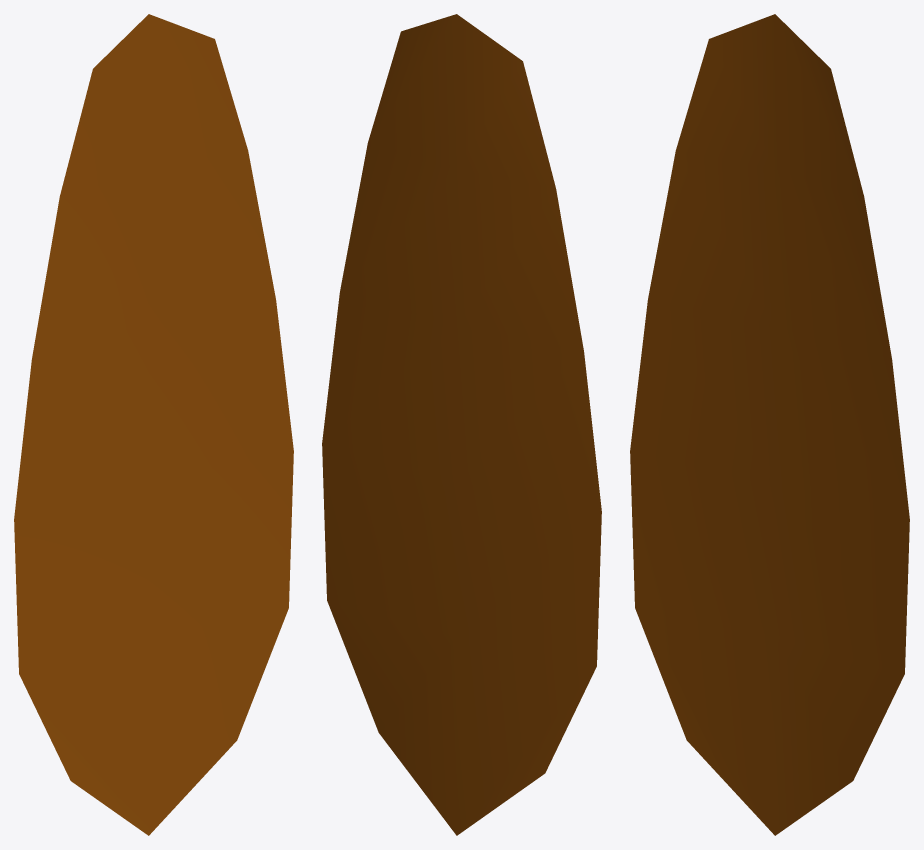
File: ara_feather_flight_secondary_018.obj
3 renders of one model, left to right at view 1: azimuth 30°, elevation 25°; view 2: azimuth 150°, elevation 25°; view 3: azimuth 330°, elevation 25°, orthographic.
Parts seen in each view (by area): view 1: feather_flight_secondary_018; view 2: feather_flight_secondary_018; view 3: feather_flight_secondary_018.
Boxes of the visible parts, x1=… form: feather_flight_secondary_018: x1=14, y1=14, x2=293, y2=835; feather_flight_secondary_018: x1=322, y1=14, x2=601, y2=835; feather_flight_secondary_018: x1=630, y1=14, x2=909, y2=835.
Bounding box in the file's own units: 0.0226 × 0.0636 × 0.000724.
